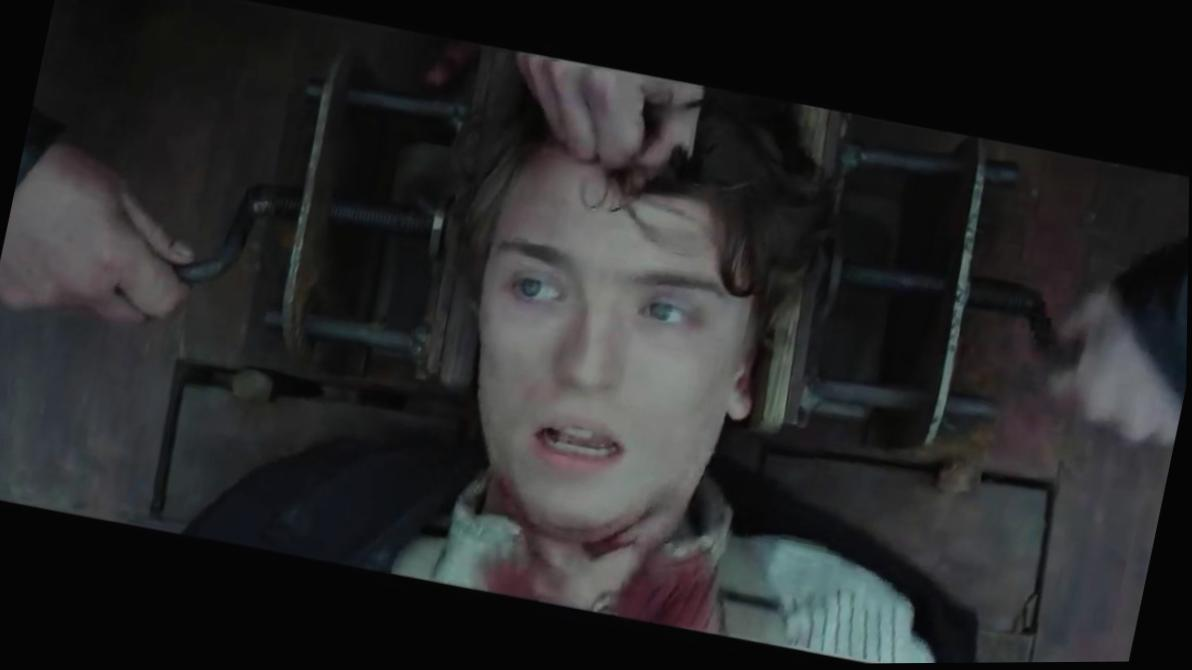Fire: (472, 462, 719, 630)
